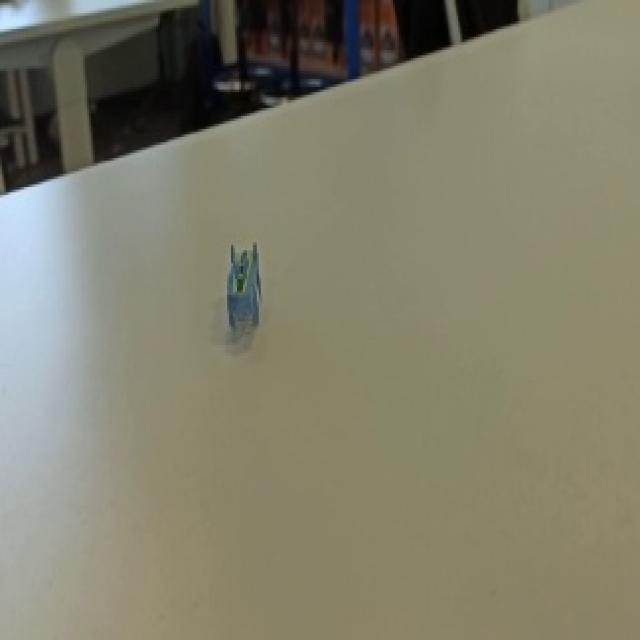3_NanoBug_Celeste: (201, 232, 298, 362)
